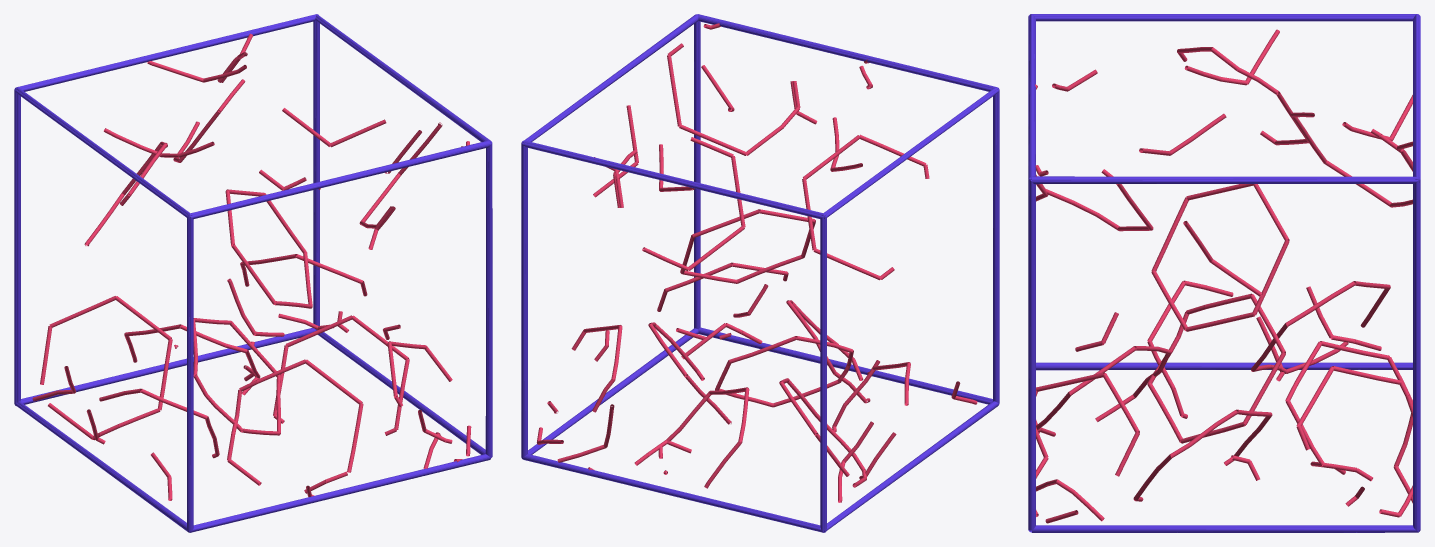
File: disloacation100.glb
3 renders of one model, left to right at view 1: azimuth 30°, elevation 25°; view 2: azimuth 150°, elevation 25°; view 3: azimuth 270°, elevation 25°, orthographic. The views are drawn at different scales.
Parts seen in each view (by area): view 1: Shape_IndexedLineSet, Shape_IndexedLineSet.001; view 2: Shape_IndexedLineSet, Shape_IndexedLineSet.001; view 3: Shape_IndexedLineSet.001, Shape_IndexedLineSet.
Part boxes in pixels (box(x1,y1,x2,y2)): Shape_IndexedLineSet: box(14, 14, 492, 532); Shape_IndexedLineSet.001: box(32, 33, 471, 500); Shape_IndexedLineSet: box(521, 14, 999, 532); Shape_IndexedLineSet.001: box(536, 23, 977, 502); Shape_IndexedLineSet.001: box(1035, 29, 1413, 523); Shape_IndexedLineSet: box(1028, 14, 1420, 532).
Bounding box in the file's own units: 1.02 × 1.02 × 1.02.
